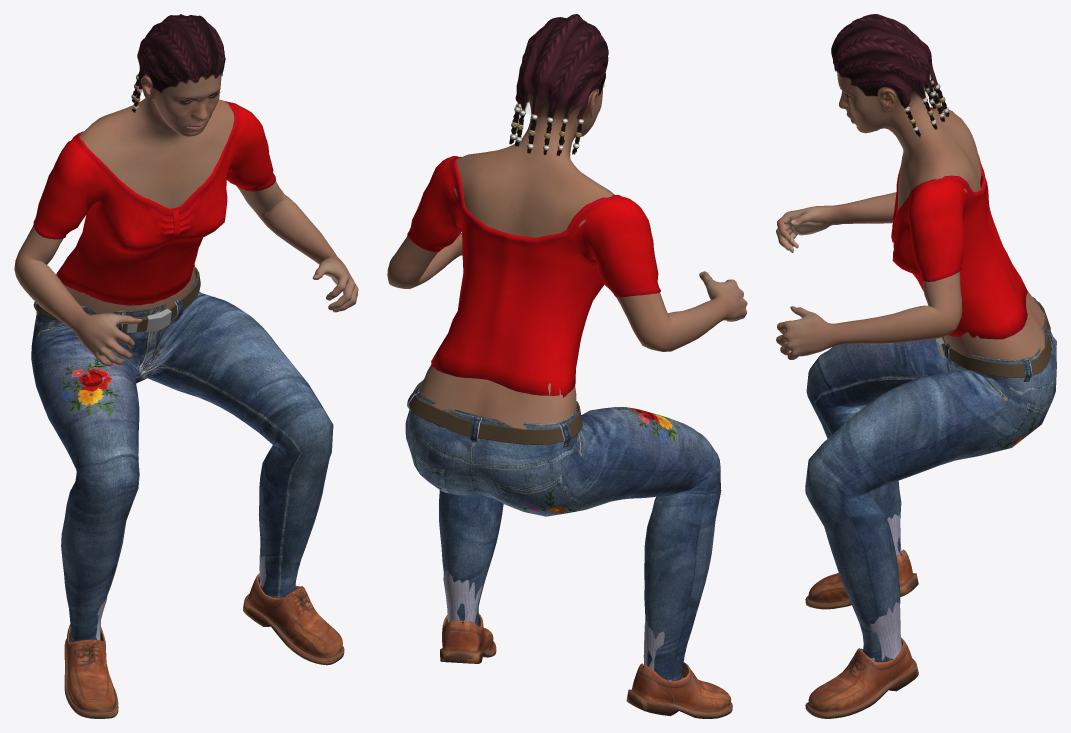
File: donna-02.glb
3 views of the same model, side by side, from view 1: azimuth 30°, elevation 25°; view 2: azimuth 150°, elevation 25°; view 3: azimuth 270°, elevation 25° (orthographic). The views are drawn at different scales.
Parts seen in each view (by area): view 1: Human.mindfront_female_trousers_1, Human, Human.punkduck_retro_top, Human.shoes01, Human.elvs_braided_rows; view 2: Human.mindfront_female_trousers_1, Human.punkduck_retro_top, Human, Human.elvs_braided_rows, Human.shoes01; view 3: Human.mindfront_female_trousers_1, Human, Human.punkduck_retro_top, Human.shoes01, Human.elvs_braided_rows.
Boxes of the visible parts, <box> form: Human.mindfront_female_trousers_1: <box>31,267,333,642</box>; Human: <box>14,74,358,366</box>; Human.punkduck_retro_top: <box>33,101,275,305</box>; Human.shoes01: <box>64,543,344,718</box>; Human.elvs_braided_rows: <box>131,14,225,112</box>; Human.mindfront_female_trousers_1: <box>405,379,721,681</box>; Human.punkduck_retro_top: <box>407,156,660,397</box>; Human: <box>387,86,747,429</box>; Human.elvs_braided_rows: <box>509,14,608,155</box>; Human.shoes01: <box>440,567,732,718</box>; Human.mindfront_female_trousers_1: <box>805,297,1056,662</box>; Human: <box>776,71,1044,359</box>; Human.punkduck_retro_top: <box>891,107,1027,339</box>; Human.shoes01: <box>805,514,918,718</box>; Human.elvs_braided_rows: <box>831,14,949,138</box>.
Size of the model in its own units: 0.6391 by 1.43 by 0.5708.
Materials: 13 (13 with a texture image).
